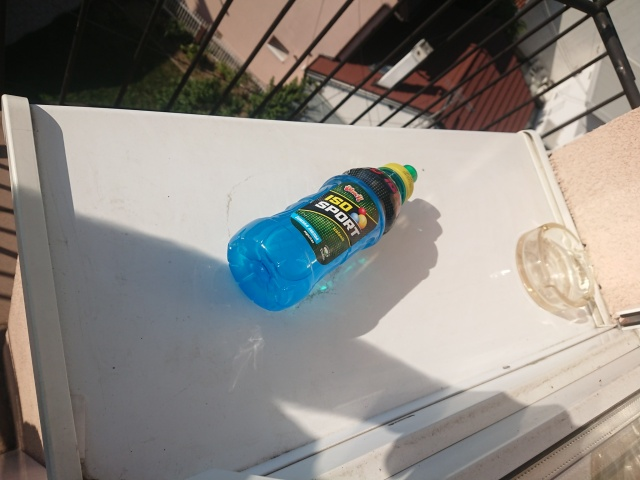Vindi Iso Sport Forest Strawberries 500mL: (225, 161, 421, 314)
